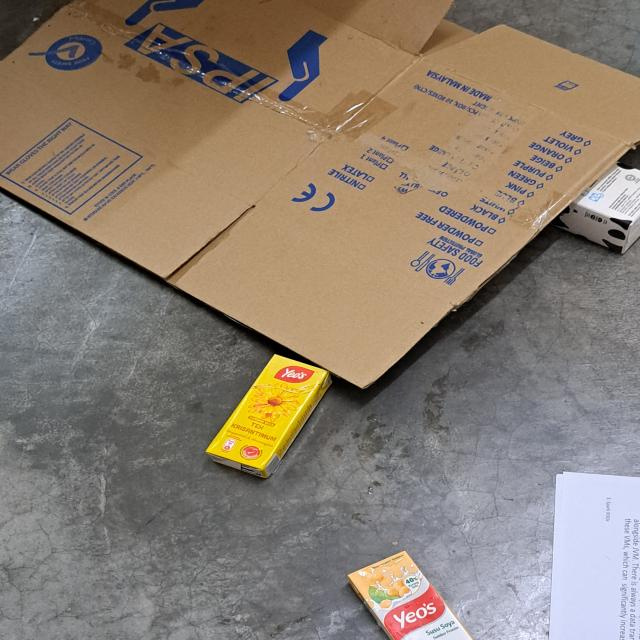cardboard: (0, 0, 640, 395)
drink carton: (209, 350, 330, 480), (345, 548, 473, 640), (563, 146, 640, 260)
paper: (550, 469, 640, 640)
